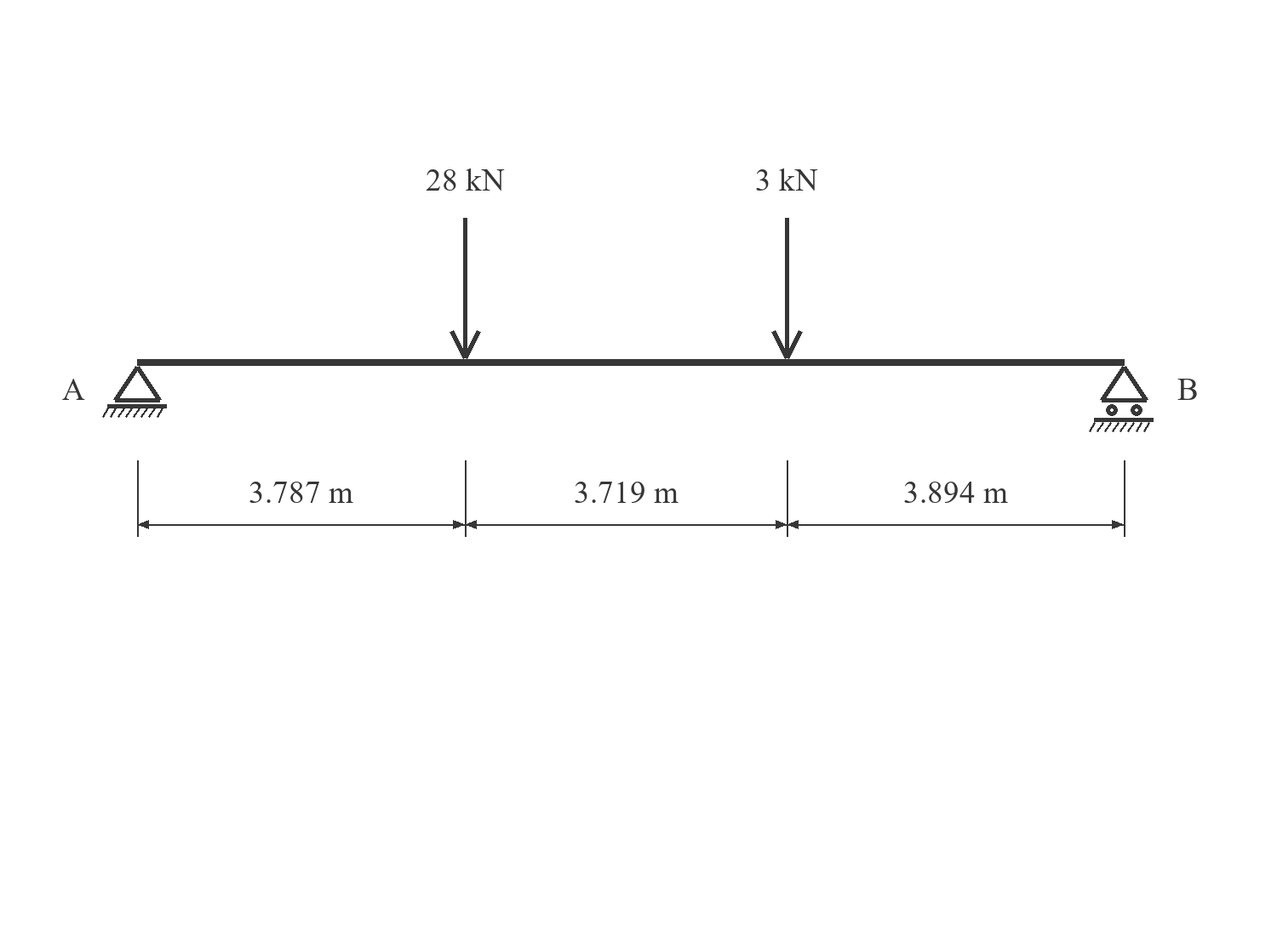pin_support: (102, 366, 167, 418)
point_load: (771, 218, 803, 359), (450, 218, 481, 359)
roller_support: (1089, 366, 1154, 432)
